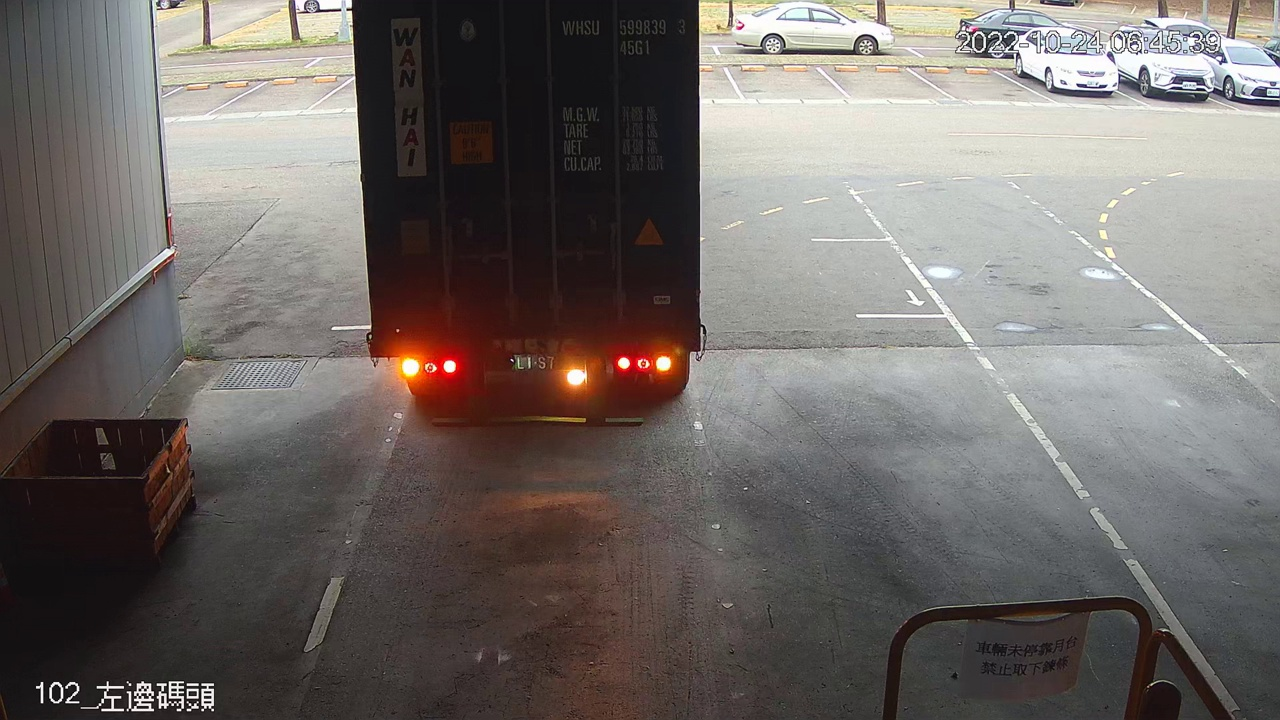container: (557, 13, 692, 65)
